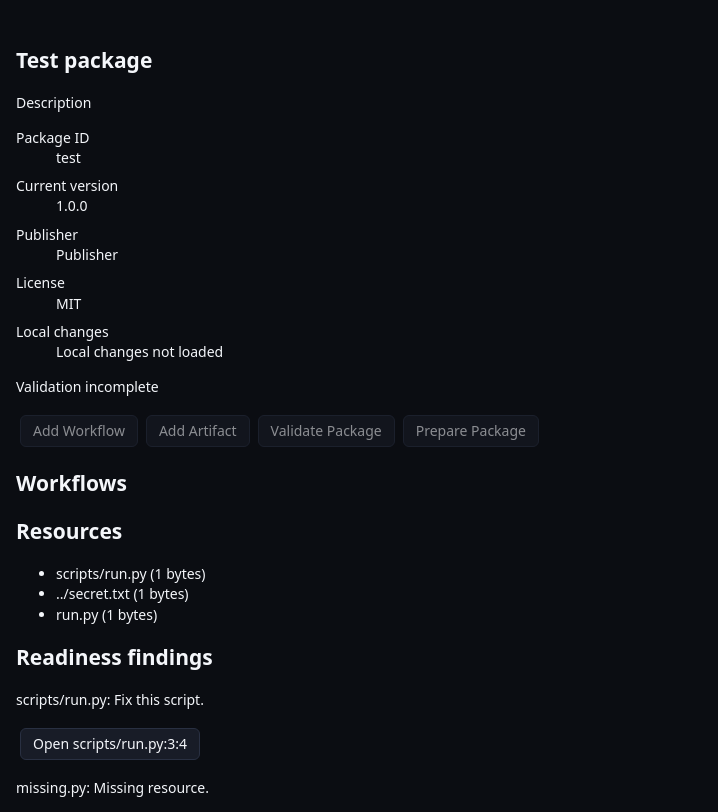
opens existing safe finding locations while blocked preparation remains disabled
expect the button "Prepare Package" is disabled: met, box [403,415,539,447]
Click the button "Open scripts/run.py:3:4" at (110,744), box [20,728,200,760]
(page scrolled)
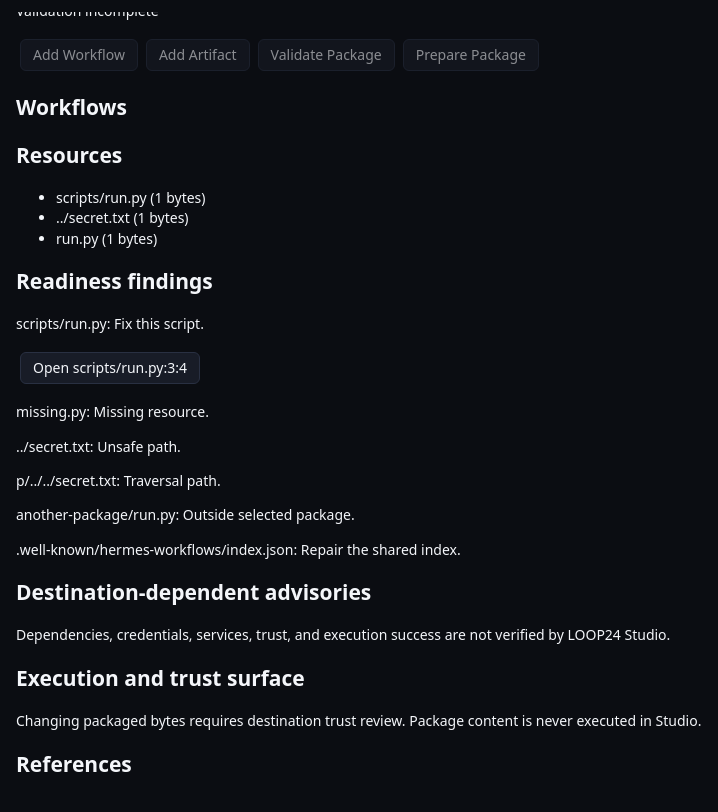
expect the text "missing.py: Missing resource." is shown: met, box [16,402,209,422]
expect the text "../secret.txt: Unsafe path." is shown: met, box [16,437,181,456]
expect the text "Dependencies, credentials, services, trust" is shown: met, box [16,625,670,644]
